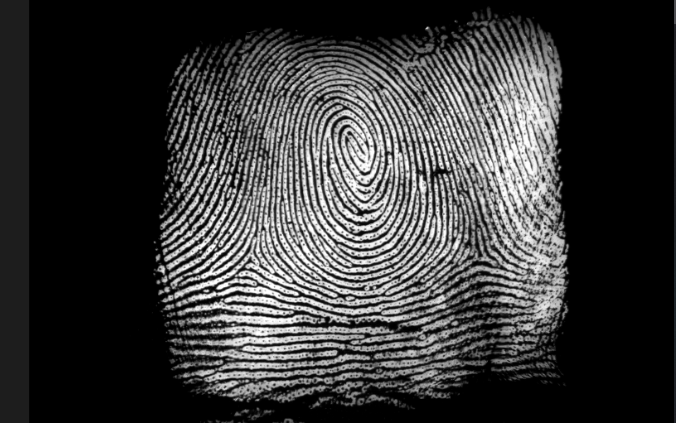deltas: (449, 225, 507, 281), (224, 232, 277, 286)
nucleo: (328, 113, 376, 172)
